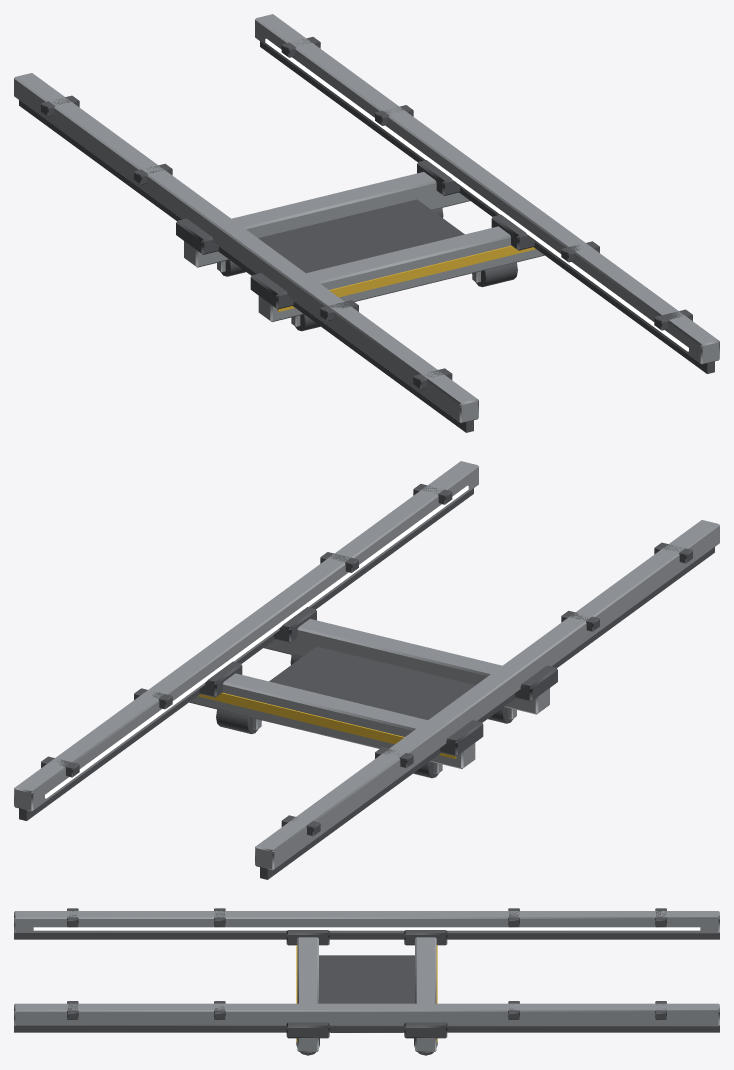
Rendered from SM_SB_Kit_CradleGantry.fbx.
The picture shows the model from 3 angles, top to bottom: view 1: azimuth 30°, elevation 25°; view 2: azimuth 150°, elevation 25°; view 3: azimuth 270°, elevation 25°; orthographic projection. The views are drawn at different scales.
Parts seen in each view (by area): view 1: SM_SB_Kit_CradleGantry; view 2: SM_SB_Kit_CradleGantry; view 3: SM_SB_Kit_CradleGantry.
Part boxes in pixels (bbox=[...]): SM_SB_Kit_CradleGantry: bbox=[14, 14, 719, 432]; SM_SB_Kit_CradleGantry: bbox=[14, 461, 719, 879]; SM_SB_Kit_CradleGantry: bbox=[14, 908, 719, 1055].
Bounding box in the file's own units: 1310 × 3600 × 305.
